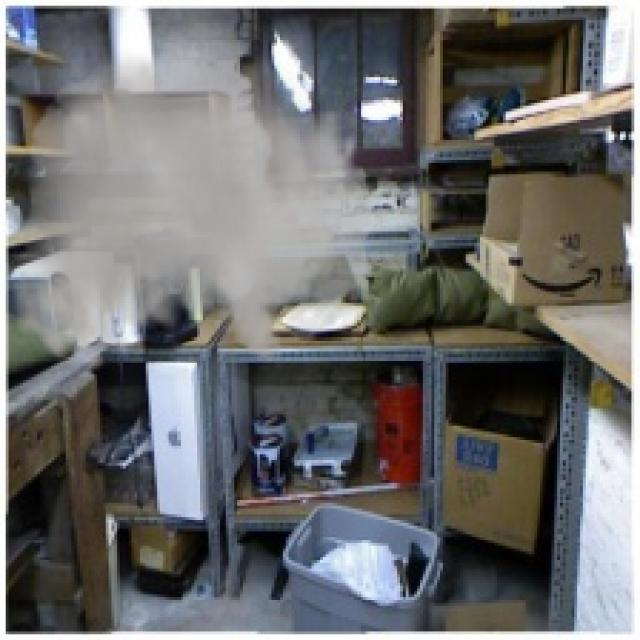smoke: (11, 6, 372, 371)
